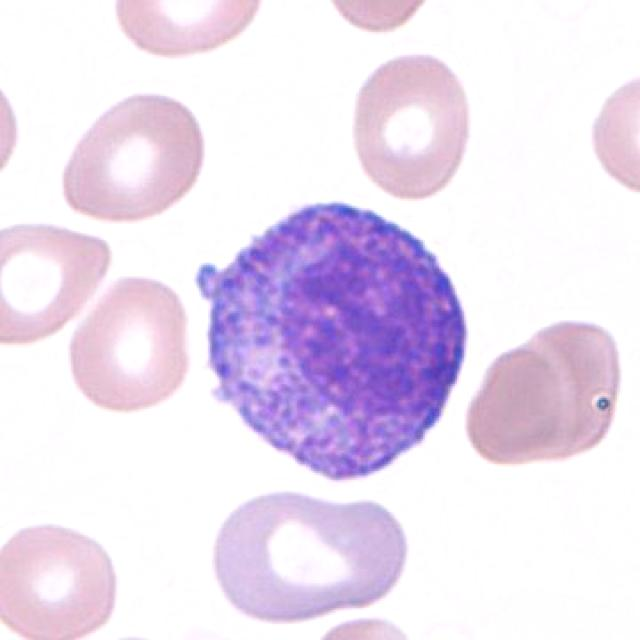RBC: (206, 480, 414, 631), (54, 82, 214, 226), (341, 42, 480, 202), (494, 306, 630, 468), (62, 266, 198, 419), (2, 215, 119, 350), (0, 515, 126, 640), (459, 336, 567, 471), (105, 0, 270, 64), (581, 64, 640, 203), (311, 0, 441, 37), (0, 52, 27, 199), (301, 610, 428, 640), (160, 622, 252, 640)
